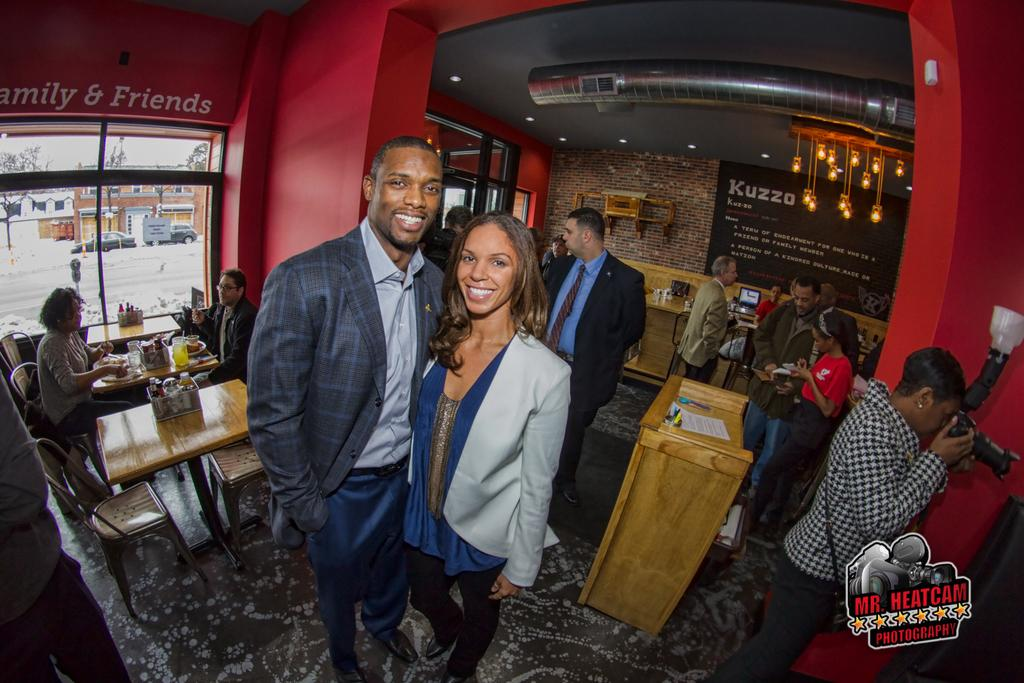Sem Máscara: (372, 148, 437, 239), (453, 217, 514, 312), (911, 395, 957, 433), (558, 213, 573, 258), (792, 282, 813, 307), (215, 273, 233, 301), (811, 328, 827, 349), (726, 256, 737, 286), (68, 300, 79, 323)
